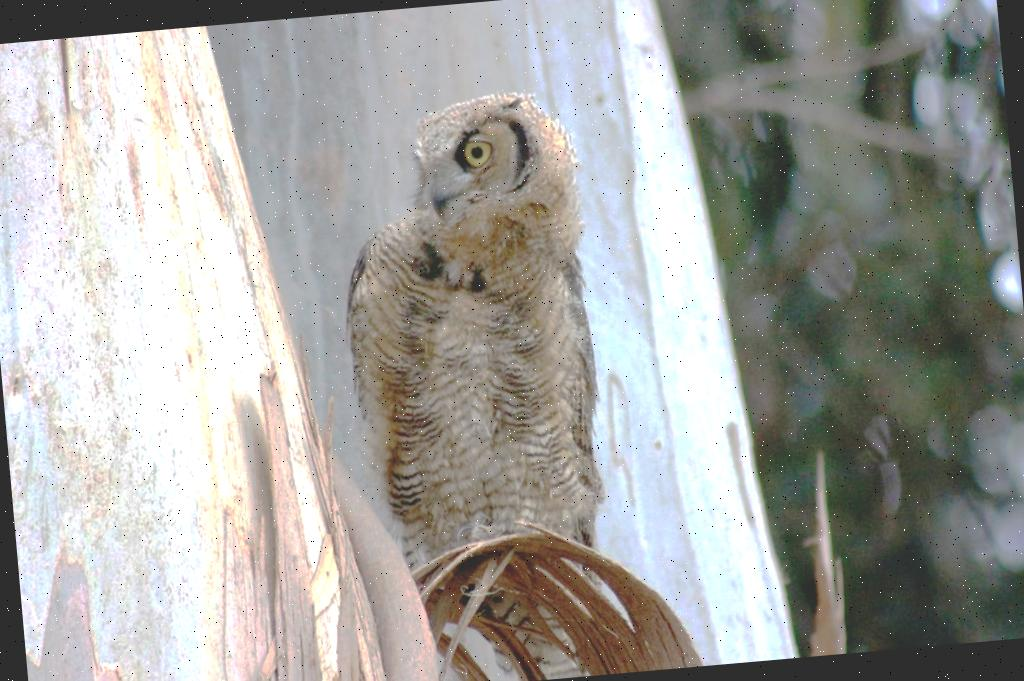Owl: (322, 82, 621, 681)
